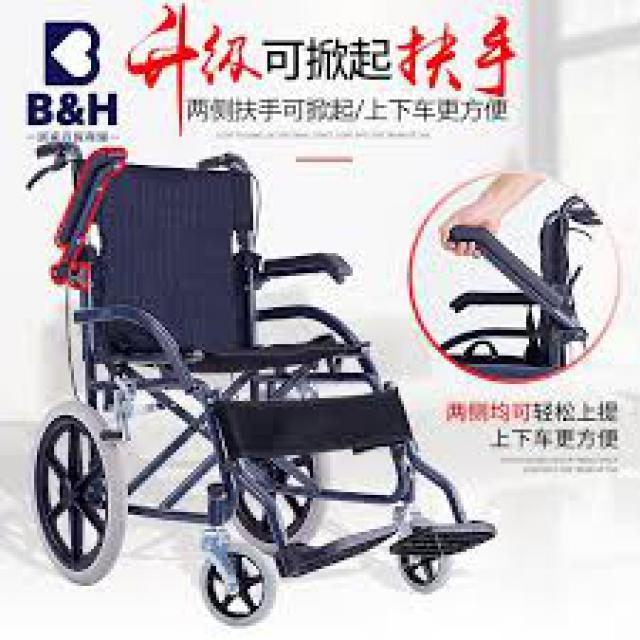wheelchair: (20, 139, 498, 623)
